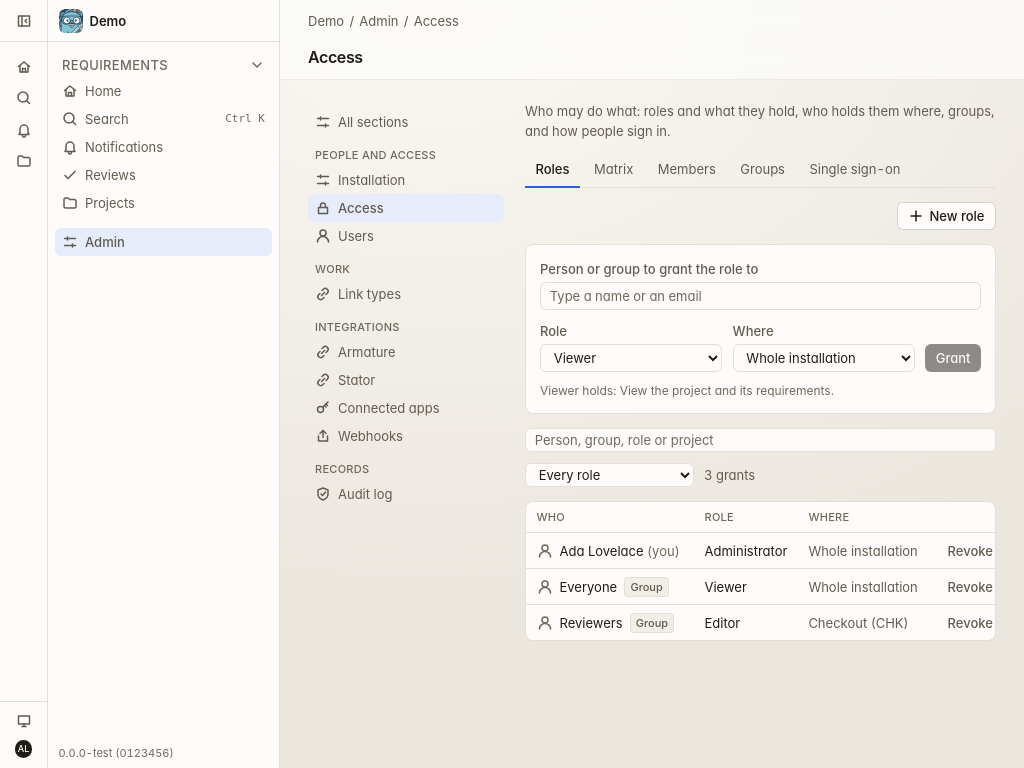
Test: the Roles tab › adds a role from the Roles tab too
The width and height of the screenshot is (1024, 768).
Click the button "New role" at (946, 216), box 897,202 -> 996,230
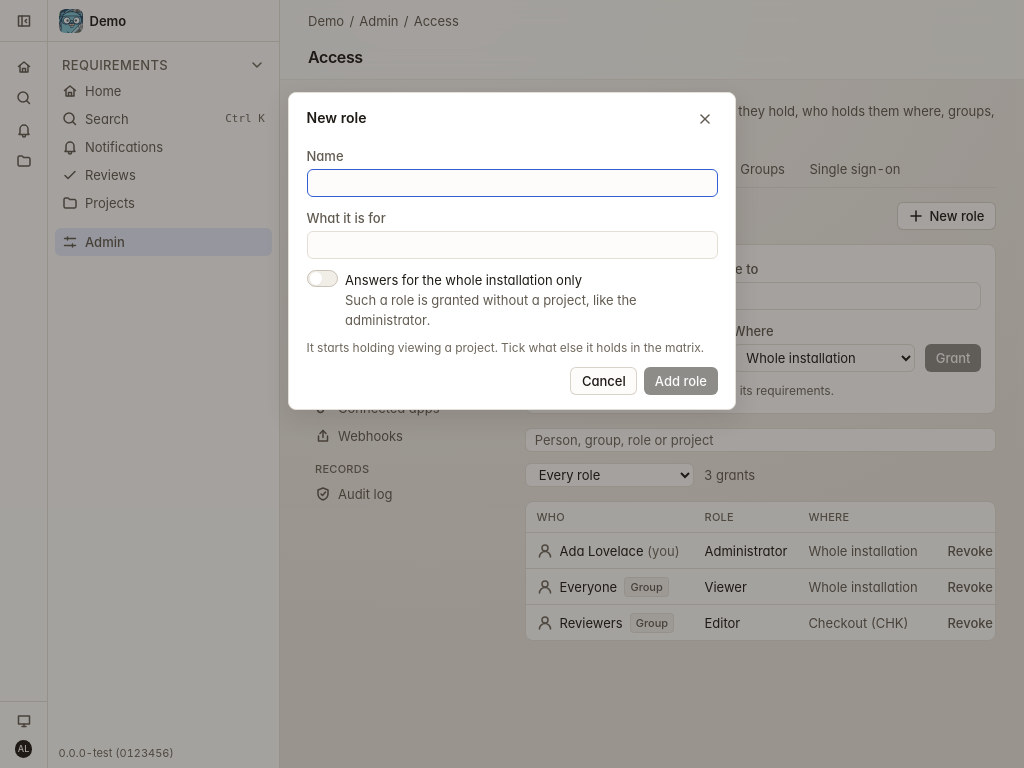
Type "Steward" into the field labelled "Name" at (512, 183), box 306,169 -> 718,197
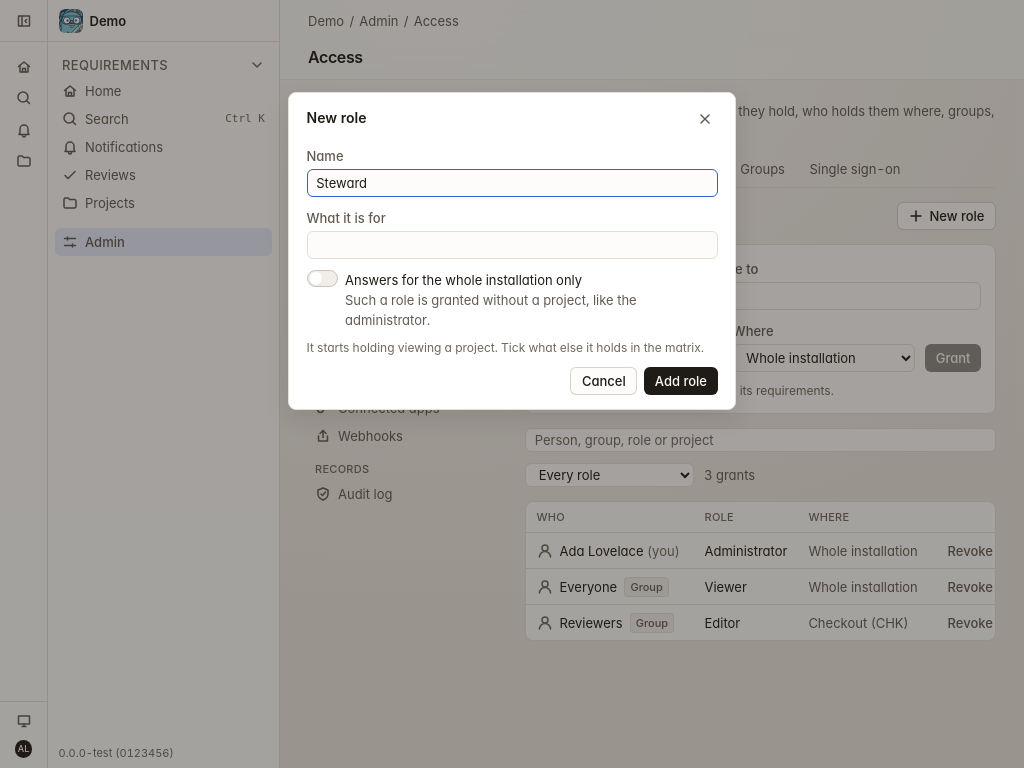
Click the switch named "Answers for the whole installation only" at (322, 278), box 306,270 -> 338,287
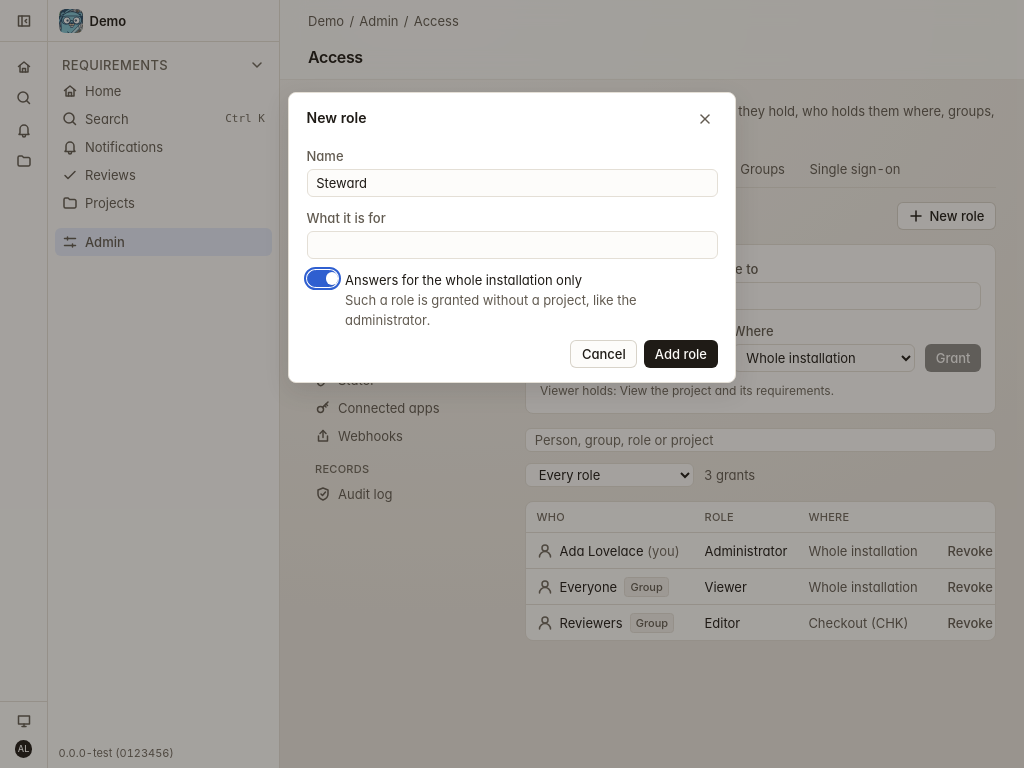
Click the button "Add role" at (681, 354), box 644,340 -> 718,368
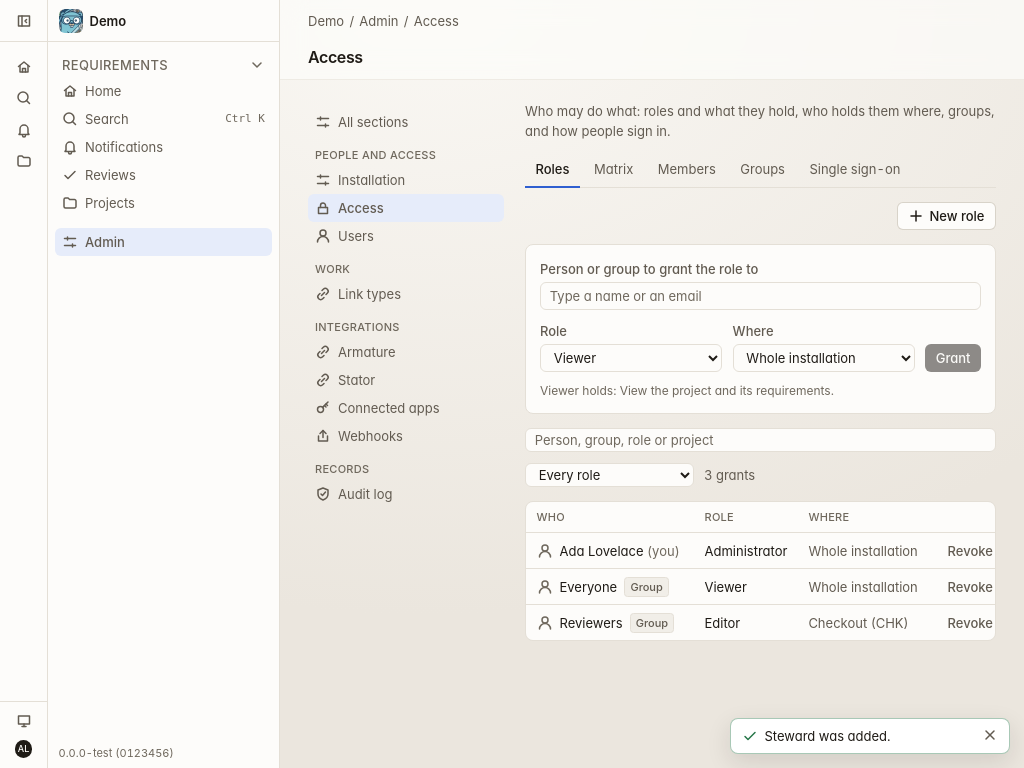
Result: the text "Steward was added." is shown at 764,728 -> 890,744
